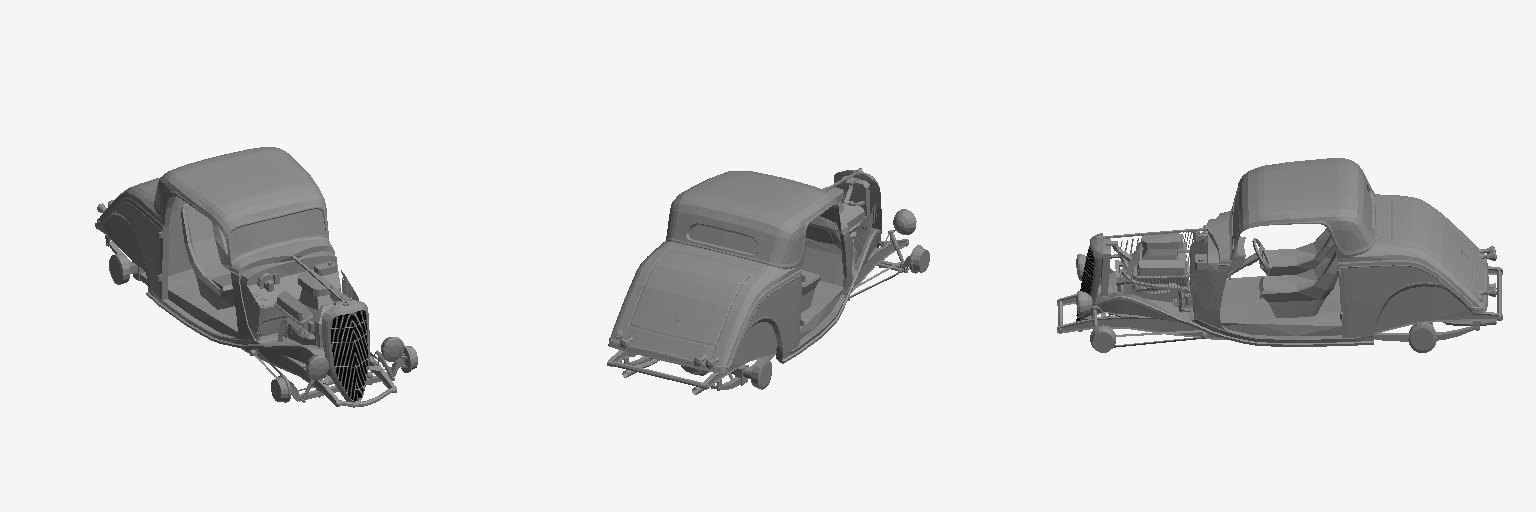
The picture shows the model from 3 angles: view 1: azimuth 30°, elevation 25°; view 2: azimuth 150°, elevation 25°; view 3: azimuth 270°, elevation 25°; orthographic projection.
Visible parts, largest first — view 1: body; view 2: body; view 3: body.
Boxes of the visible parts, x1,y1,x2,y2 form: body: [95, 147, 417, 407]; body: [607, 168, 929, 394]; body: [1057, 158, 1502, 352].
Bounding box in the file's own units: 24.49 × 25.5 × 68.24.
6 materials, 1 textured.